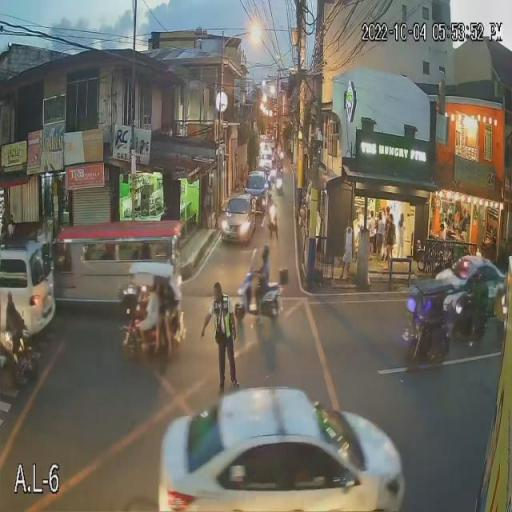helmet: (260, 247, 274, 266), (456, 256, 470, 274)
motorcycle: (118, 285, 182, 363), (399, 286, 452, 367), (442, 292, 491, 354), (235, 270, 286, 324), (0, 328, 34, 385), (264, 211, 280, 241)
rider: (414, 270, 444, 333), (246, 250, 278, 309), (456, 268, 488, 326), (136, 278, 162, 346), (1, 290, 25, 354), (264, 196, 278, 226)
